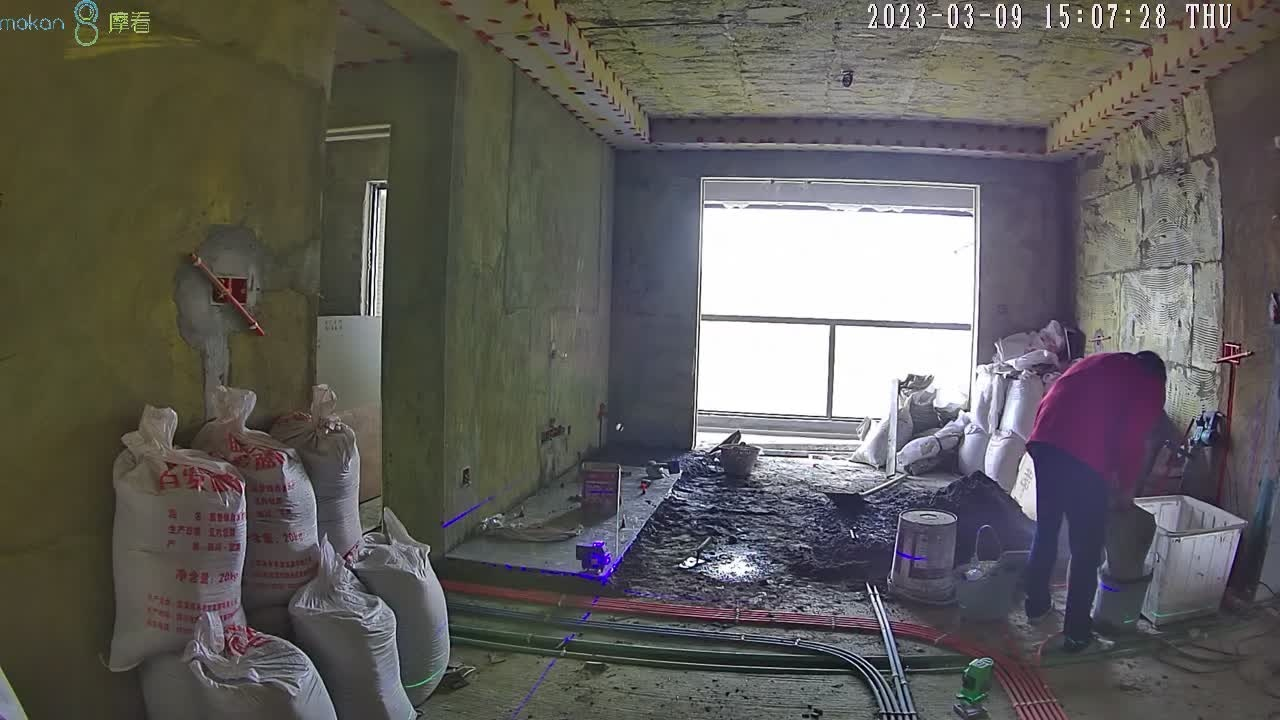people: (1023, 350, 1171, 650)
window: (702, 199, 979, 419)
